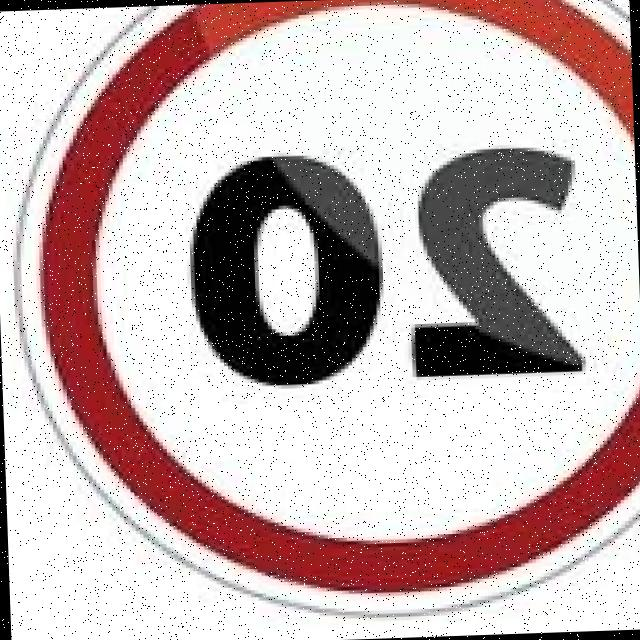speed_limit_20: (0, 0, 640, 630)
